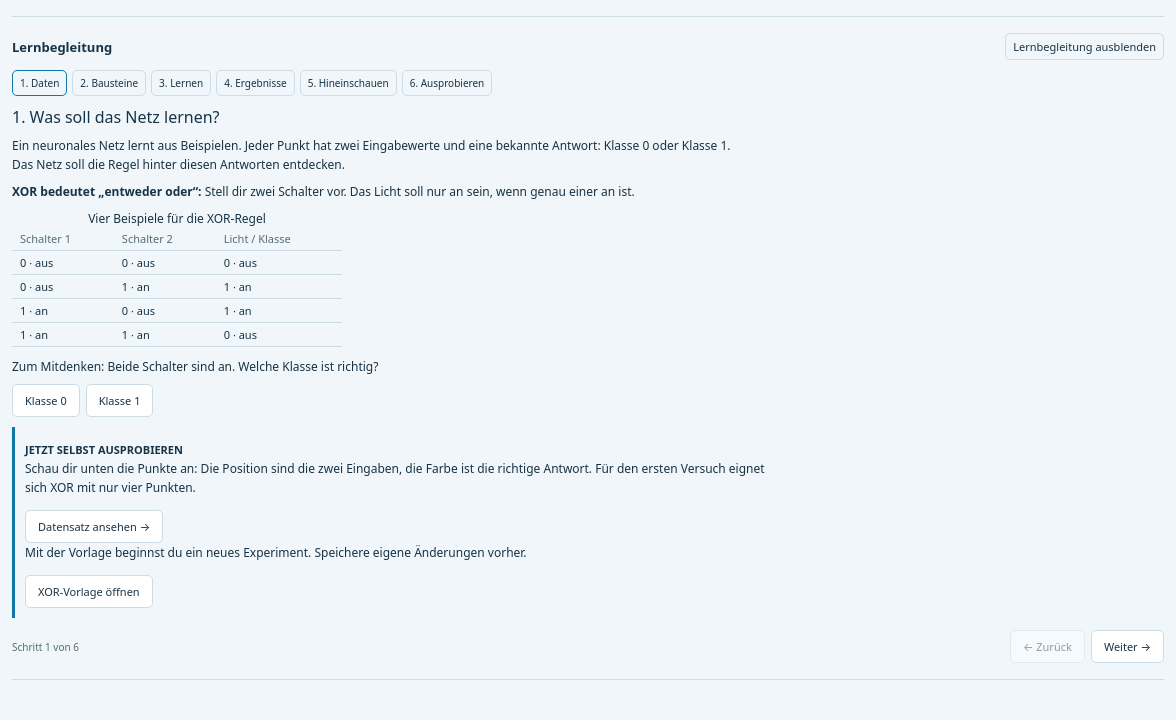
Test case: teaches XOR and navigates without replacing the experiment
The image size is (1176, 720).
Click the button "Klasse 1": (120, 400) [86, 384, 153, 417]
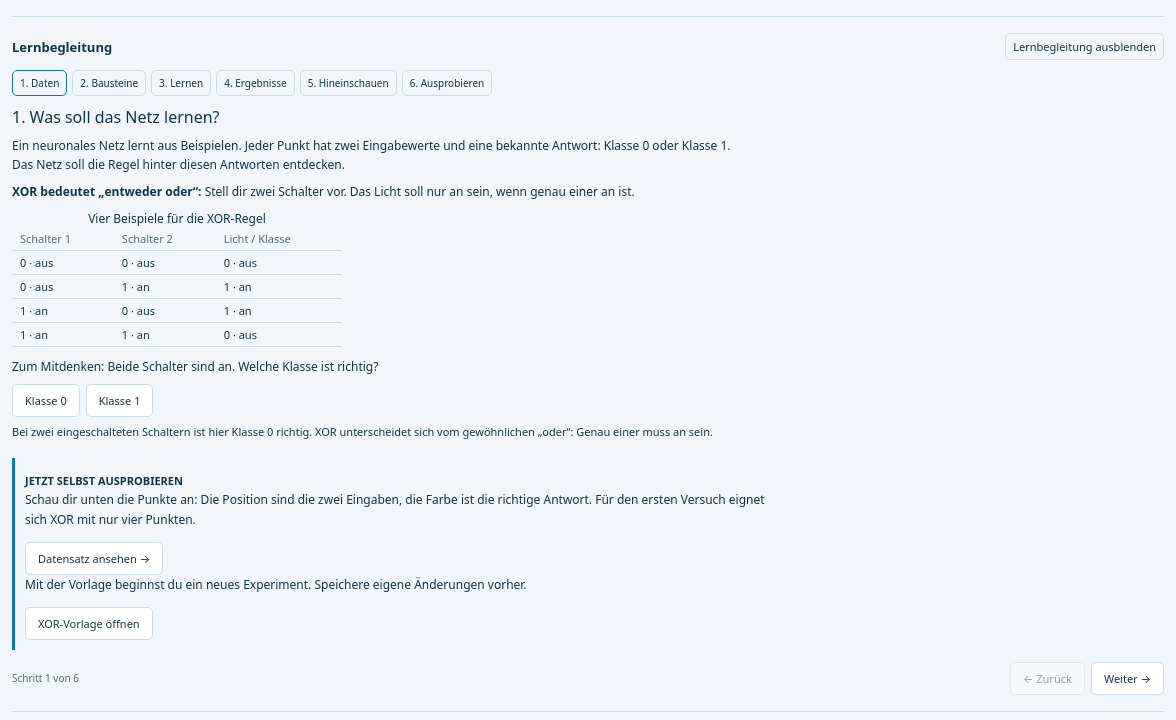
Expected: the message shows "Klasse 0 richtig", [12, 424, 713, 439]
Click the button "Klasse 0": (46, 400) [12, 384, 80, 417]
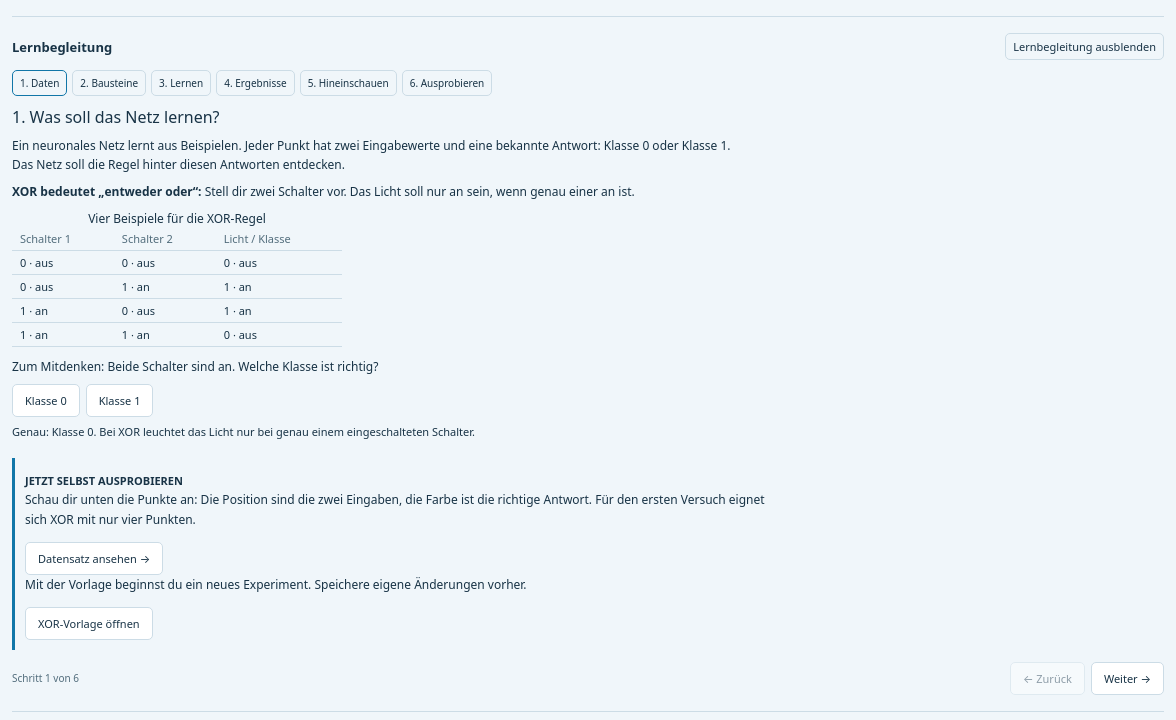
Expected: the message shows "Genau", [12, 424, 475, 439]
Click the button "Weiter →": (1127, 678) [1091, 662, 1164, 695]
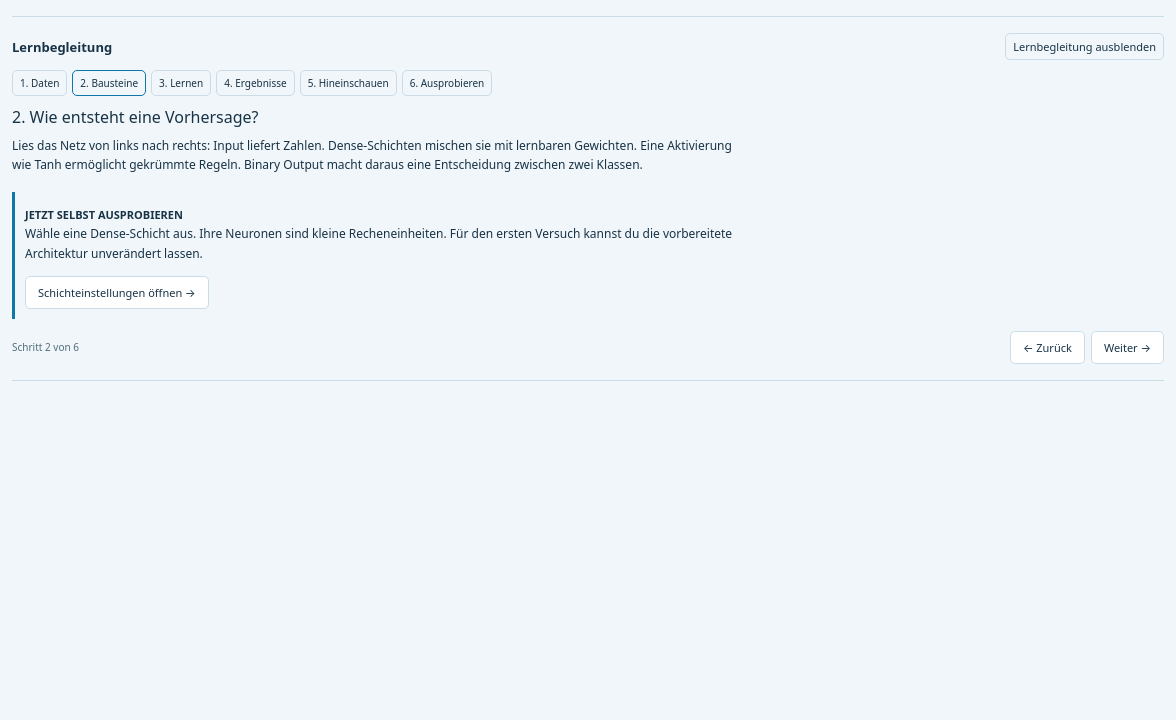
Expected: the heading "2. Wie entsteht eine Vorhersage?" is shown, [12, 106, 258, 128]
